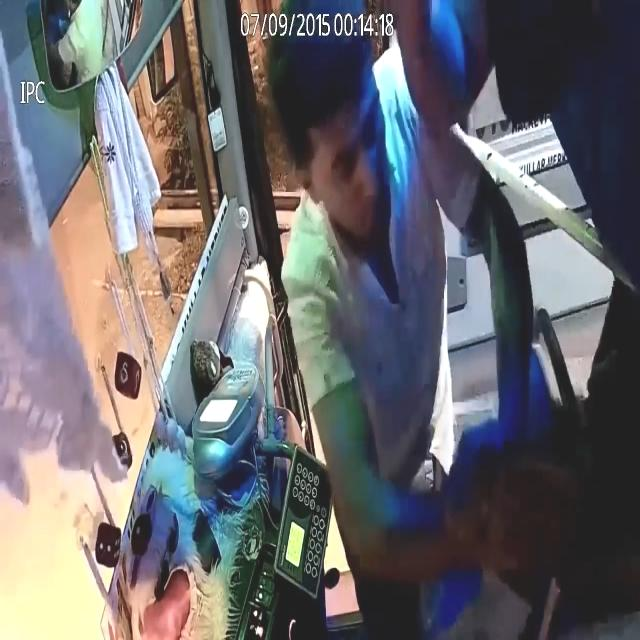fight: (266, 3, 584, 640)
